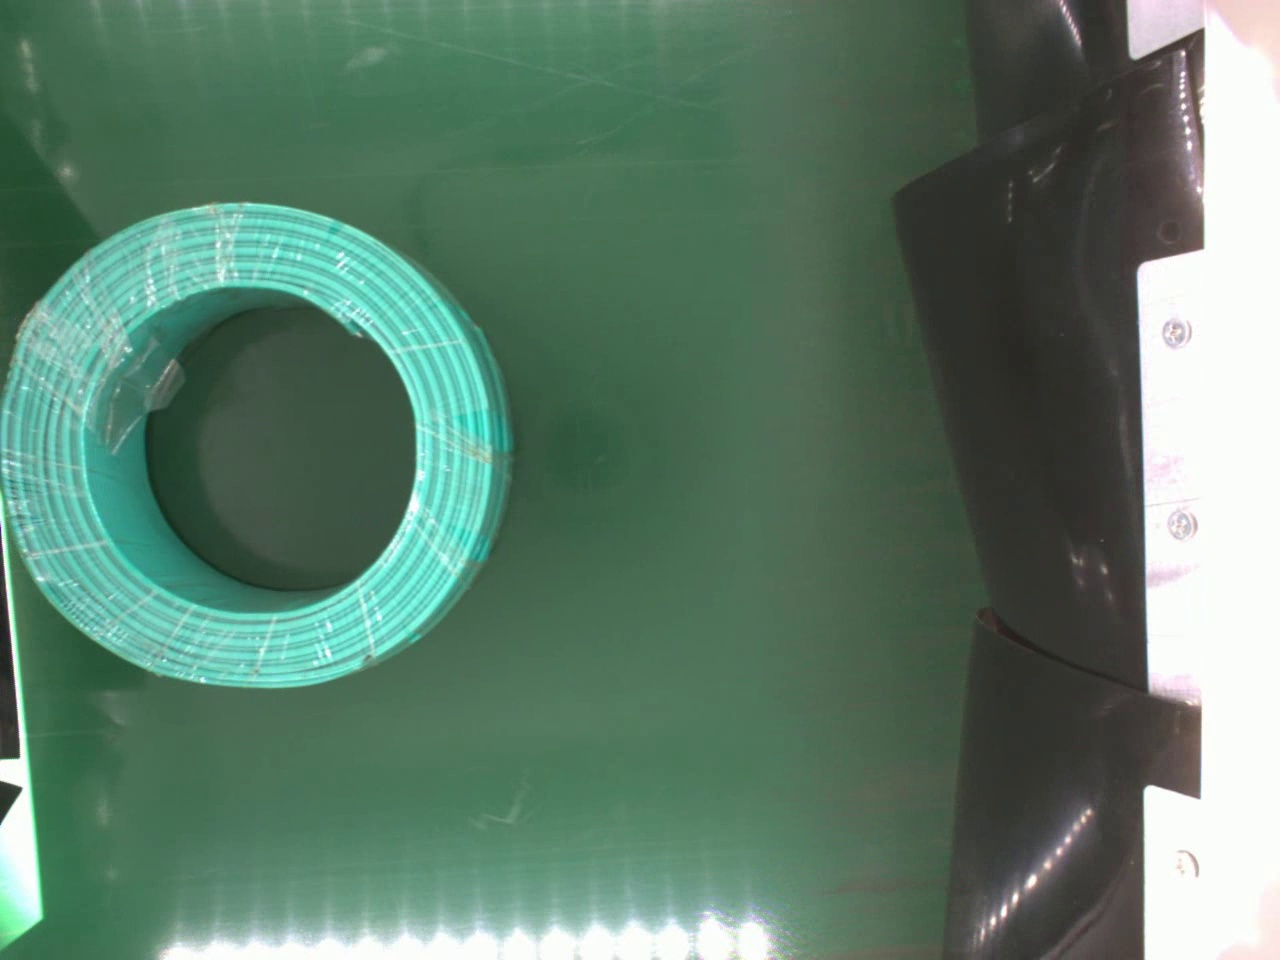green: (3, 202, 518, 696)
